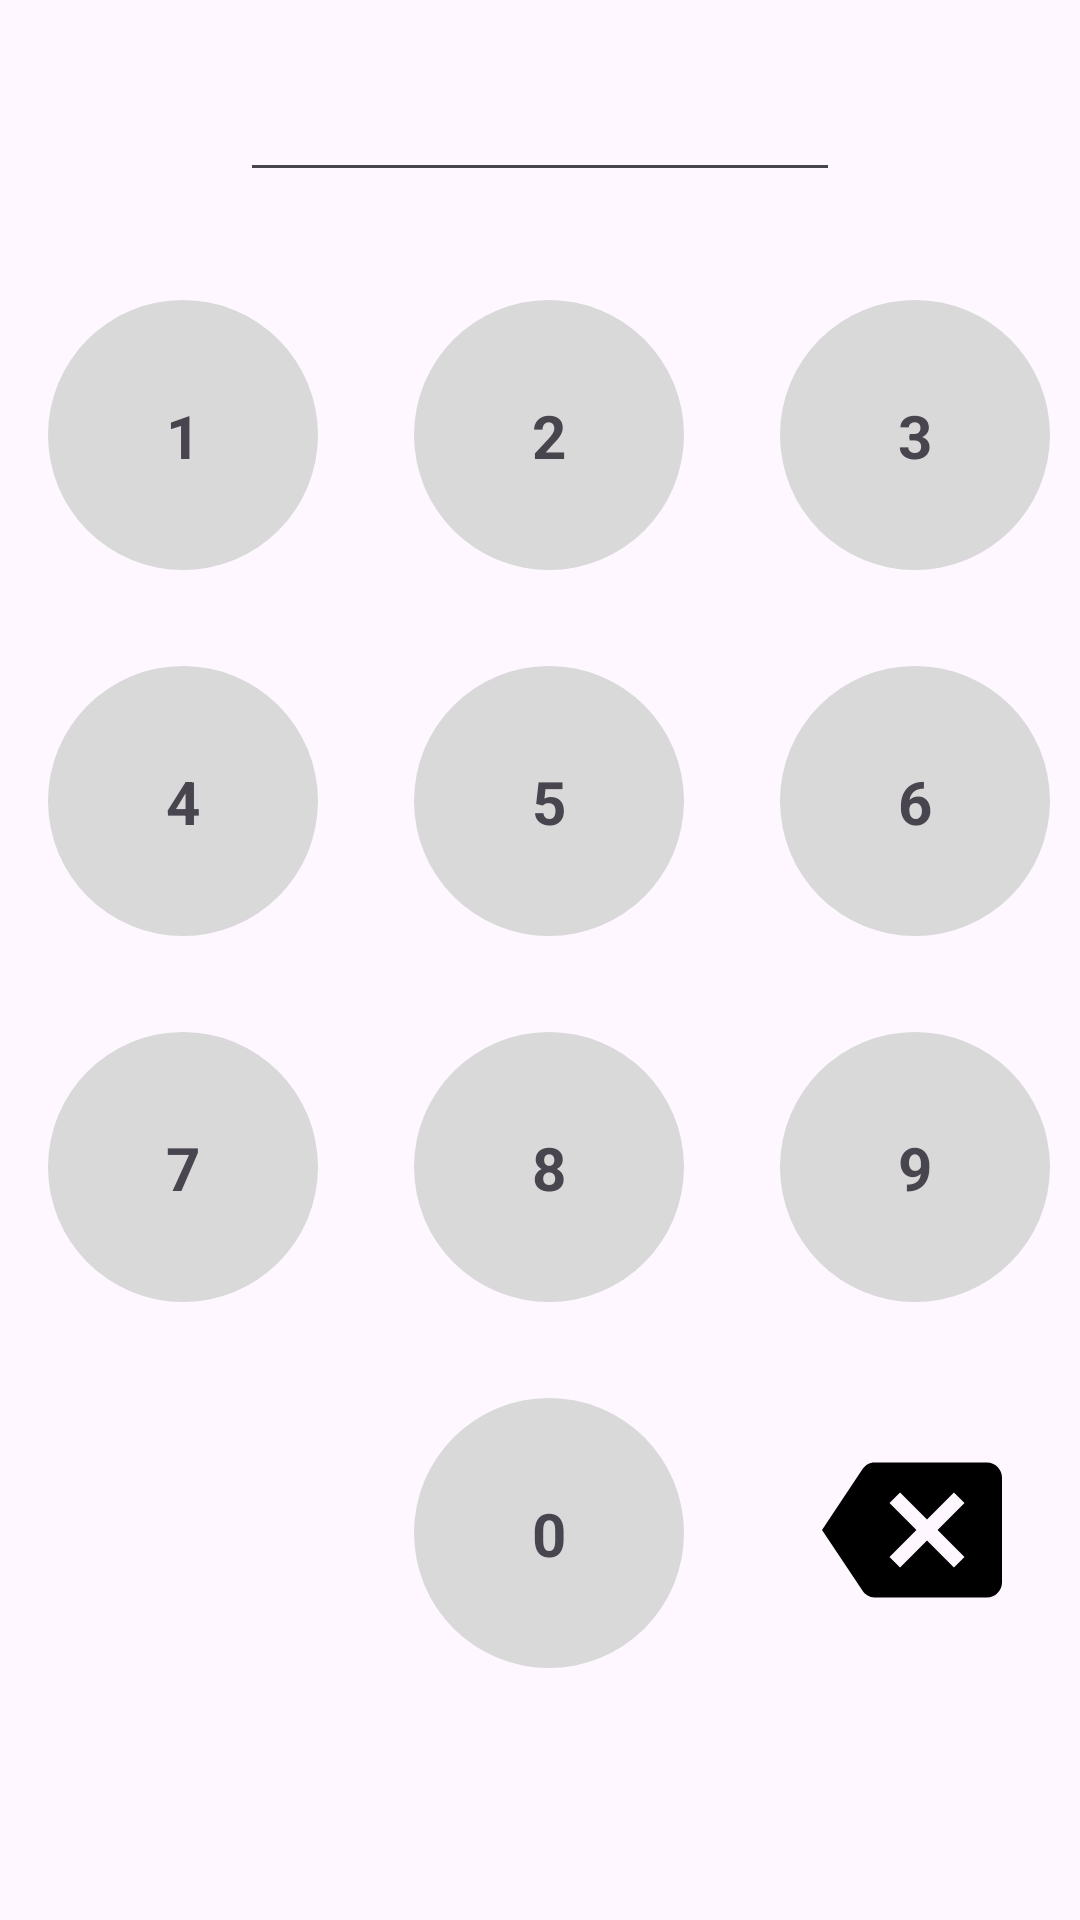

Named icons in this screenshot (1080 × 1920) and their bounding boxes, bbox(x1, y1, x2, y2):
delete: bbox(822, 1462, 1002, 1598)
